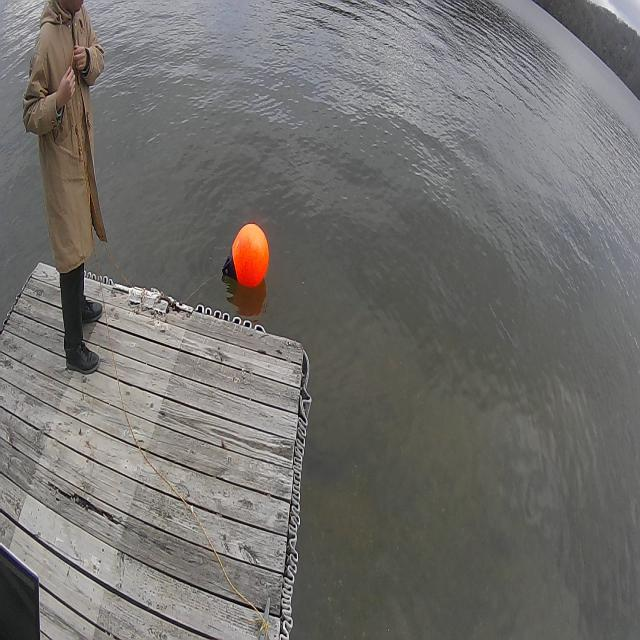Buoy: (223, 217, 271, 292)
